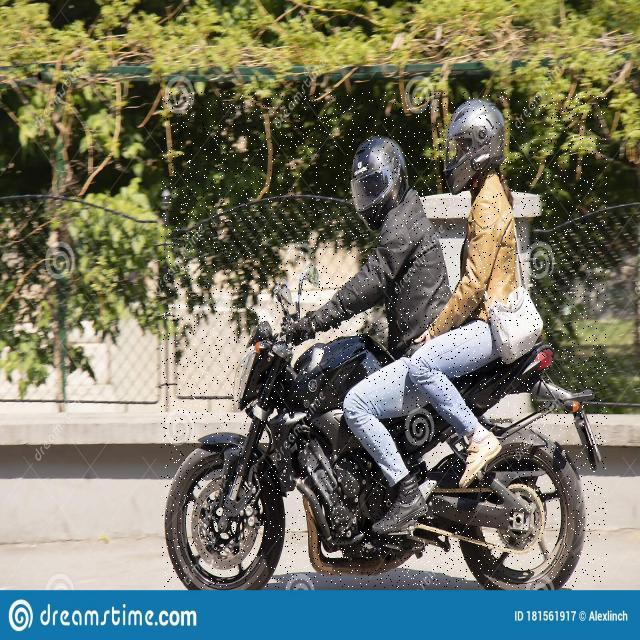With Helmet: (161, 92, 607, 588)
